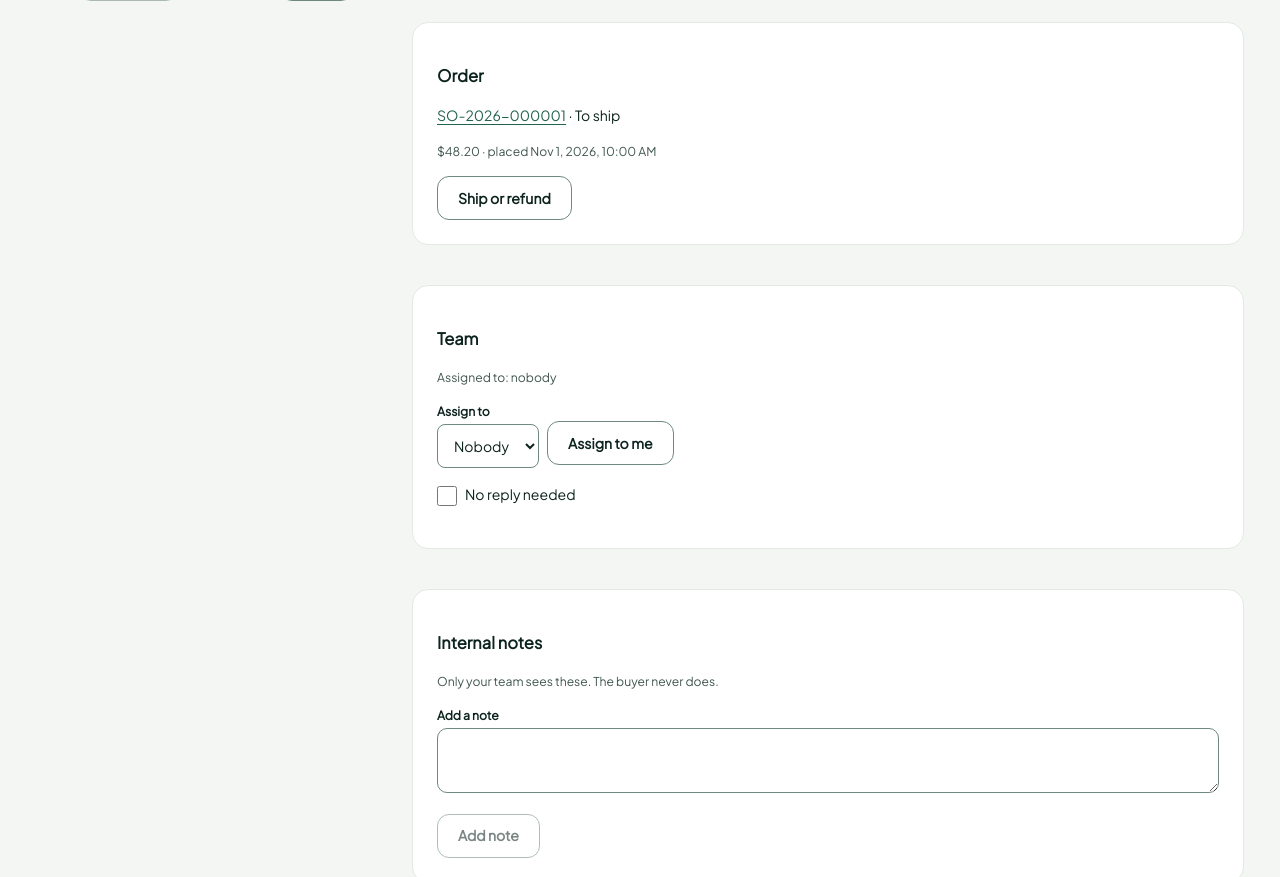
Scenario: review: messages › shows an error when assigning fails, instead of failing silently
The image size is (1280, 877).
(page scrolled)
What coordinates should you click on to do the following:
click the button "Assign to me"
I would click on:
 (610, 443)
Its box is [547,421,674,465].
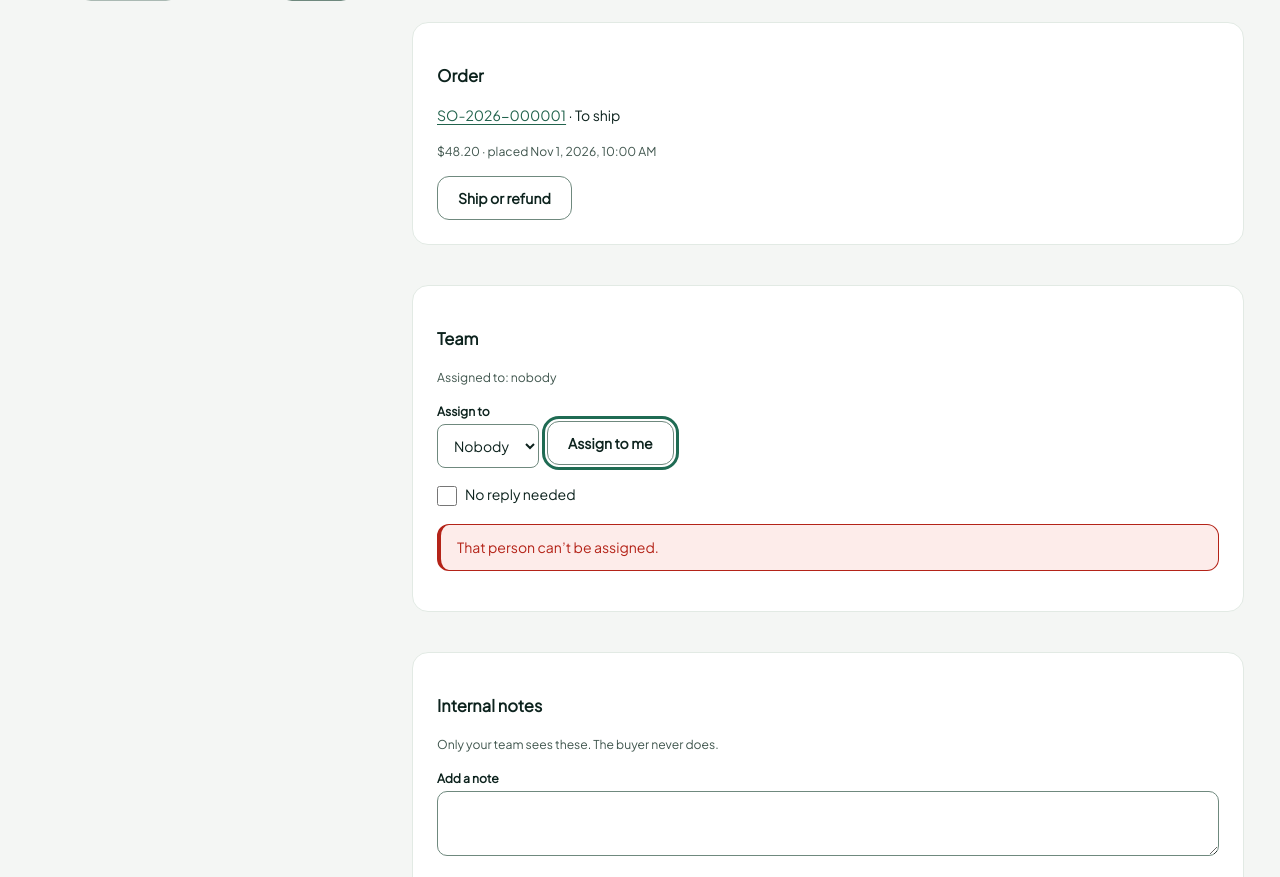
Result: the text "That person can’t be assigned." is shown at [437,524,1219,571]
